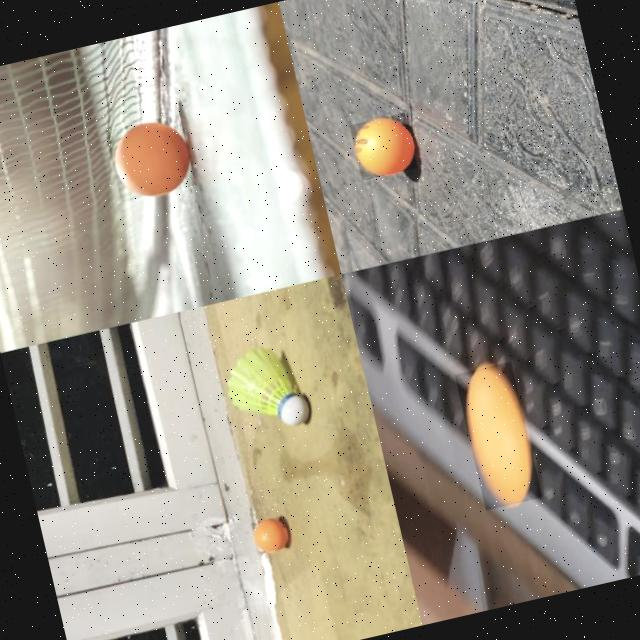ping-pong-ball: (453, 360, 542, 512), (104, 113, 196, 203), (347, 112, 418, 182), (249, 514, 289, 556)
